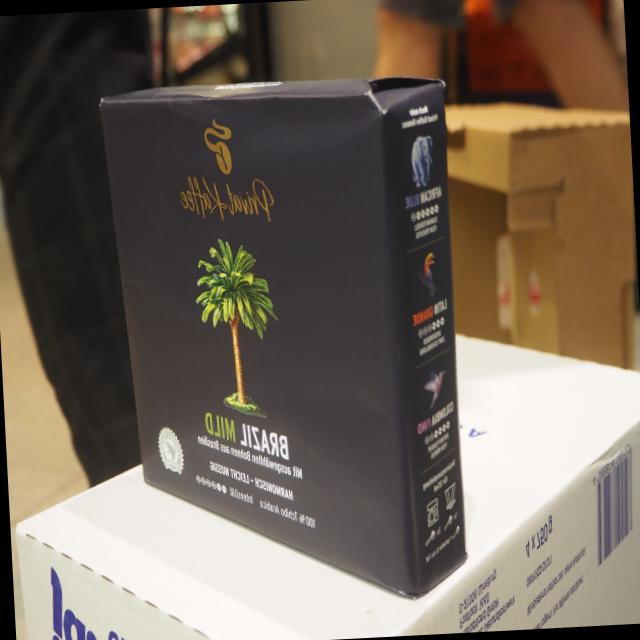BM Gemahlen: (94, 69, 477, 632)
